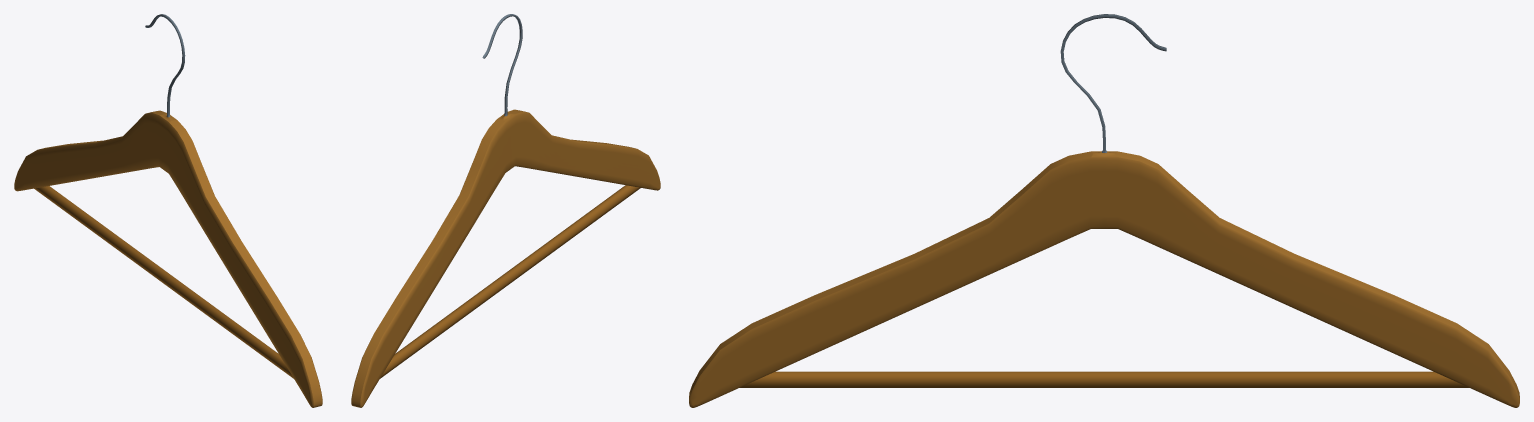
File: SM_Hanger_V01.fbx
3 views of the same model, side by side, from view 1: azimuth 30°, elevation 25°; view 2: azimuth 150°, elevation 25°; view 3: azimuth 270°, elevation 25° (orthographic). The views are drawn at different scales.
Parts seen in each view (by area): view 1: SM_Hanger_V01; view 2: SM_Hanger_V01; view 3: SM_Hanger_V01.
Part boxes in pixels (x1,y1,x2,y2): SM_Hanger_V01: (14, 14, 322, 407); SM_Hanger_V01: (351, 14, 660, 407); SM_Hanger_V01: (689, 14, 1519, 407).
Size of the model in its own units: 1.07 by 27.25 by 52.56.
